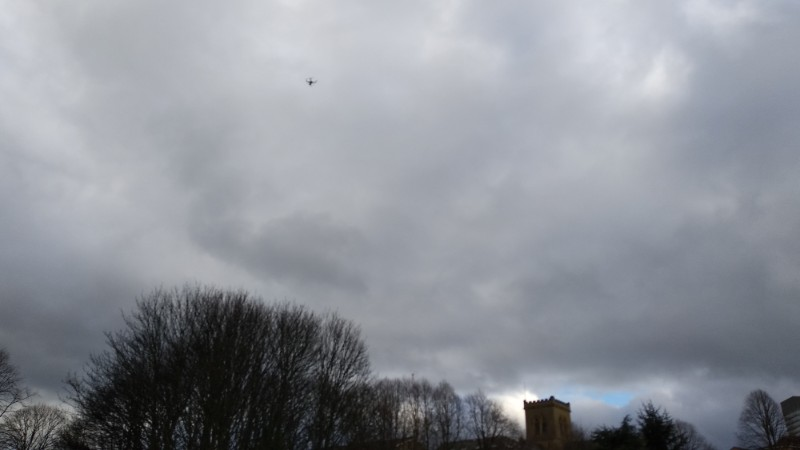drone: (305, 78, 317, 87)
